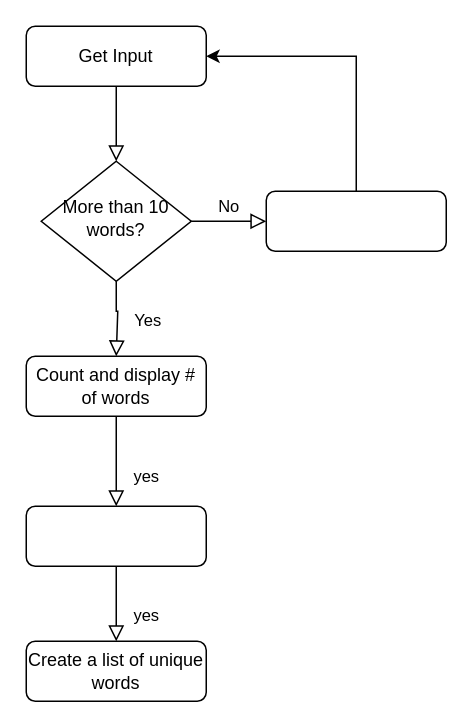
This 473x728 diagram has some shape labels left out. Each missing label, with the centre of its shape:
"Count and display # of vowels" belongs at pixel 115 535.
"Re-prompt for string" belongs at pixel 355 220.
